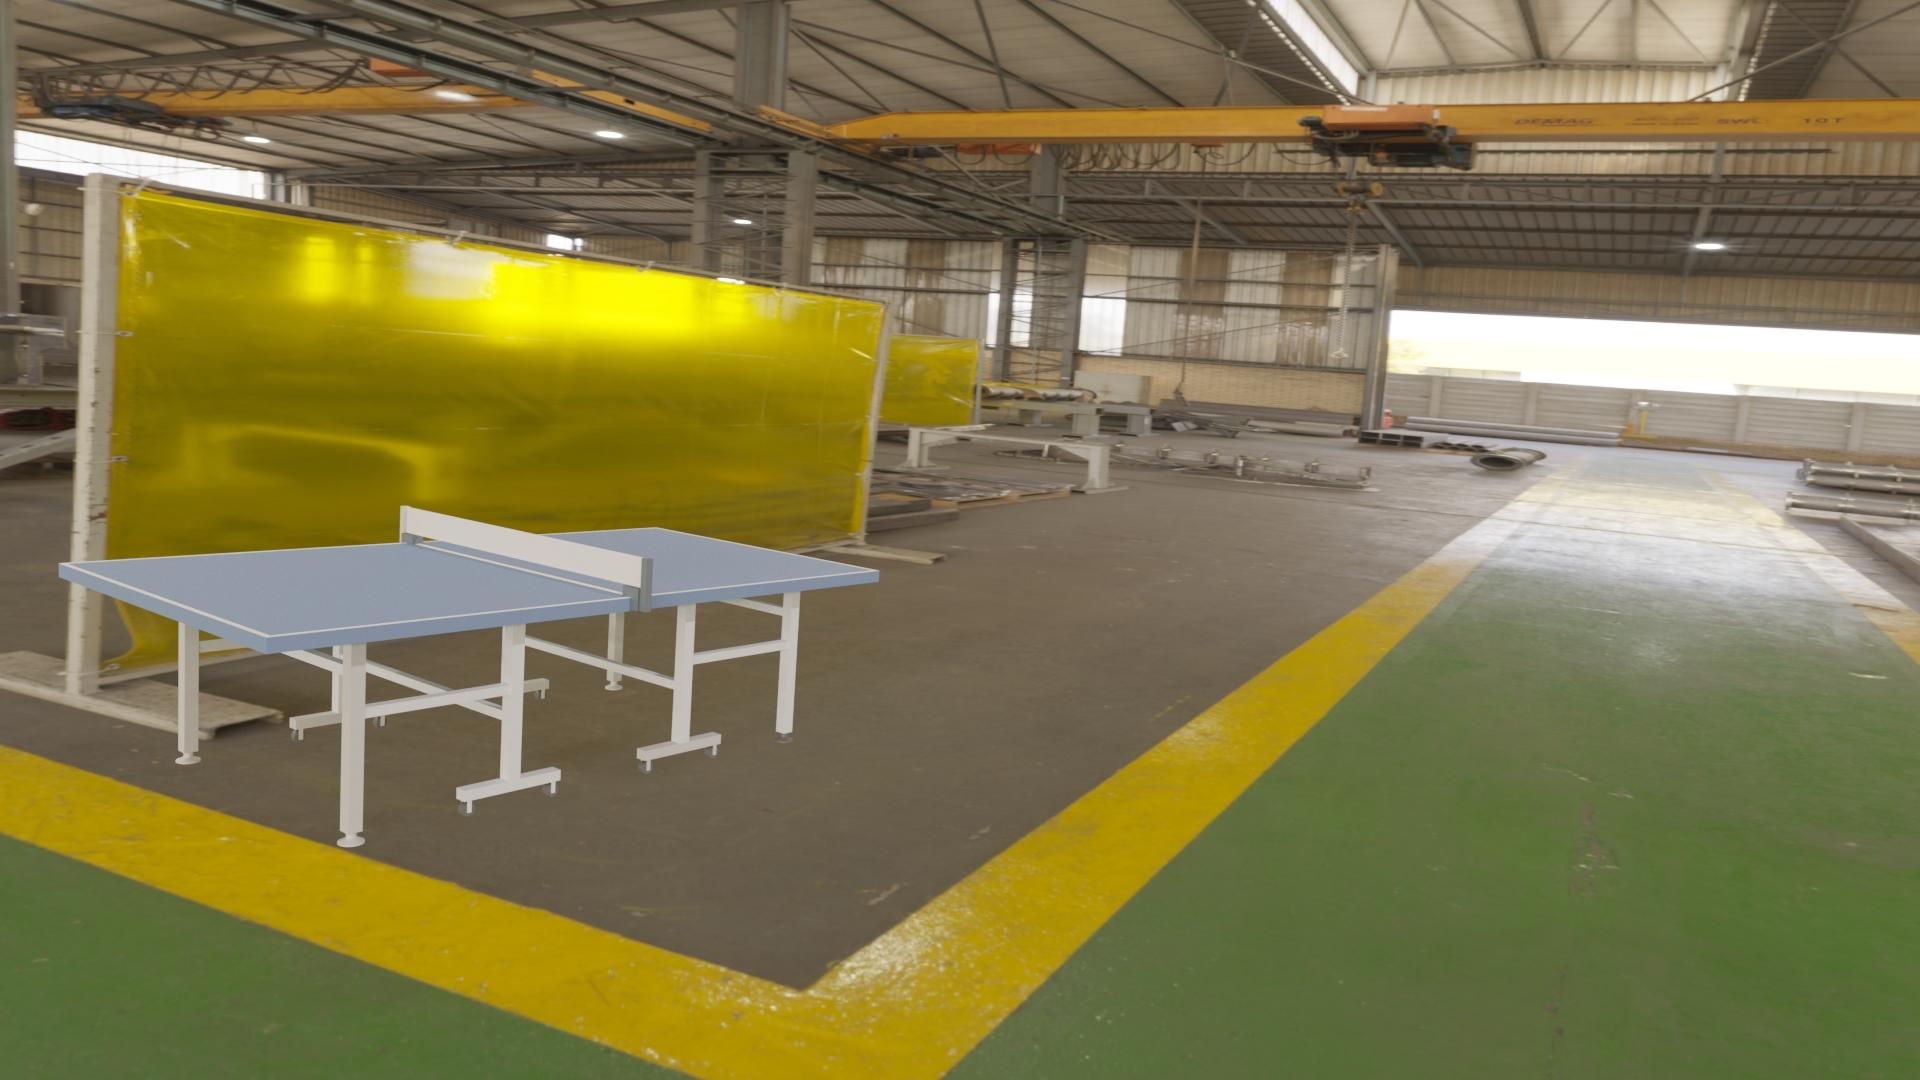table: (67, 529, 873, 636)
